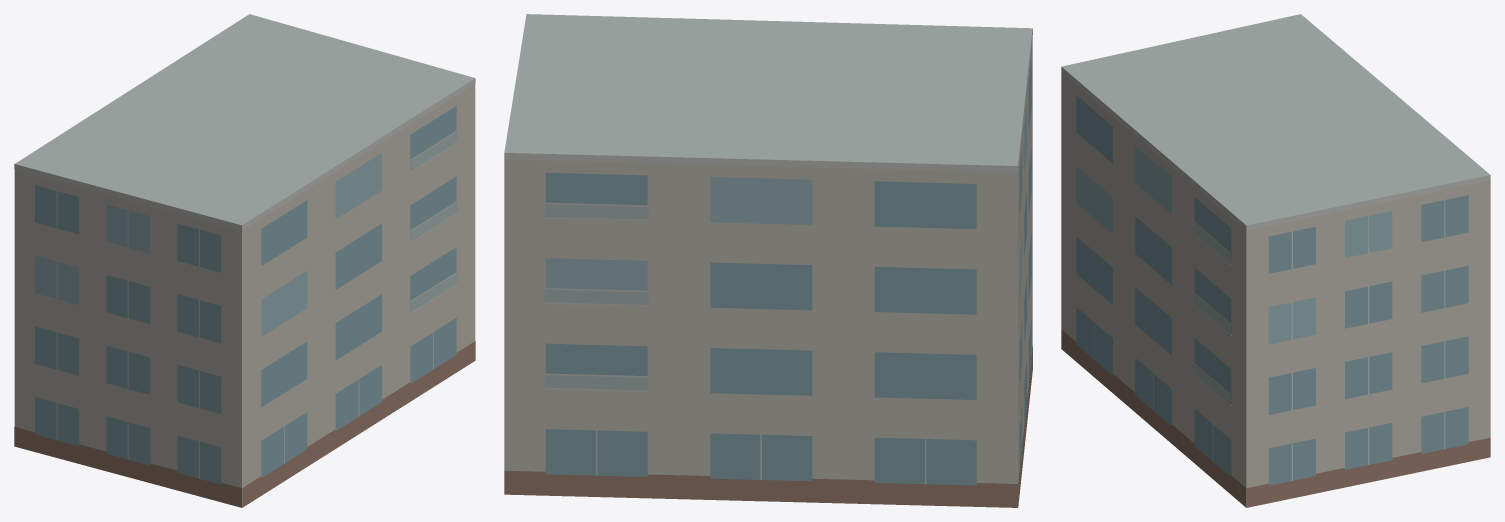
The model's file is survey-upis-32959519.glb.
The picture shows the model from 3 angles, left to right: view 1: azimuth 30°, elevation 25°; view 2: azimuth 150°, elevation 25°; view 3: azimuth 270°, elevation 25°; orthographic projection. The views are drawn at different scales.
Parts seen in each view (by area): view 1: survey-upis-32959519.tmp; view 2: survey-upis-32959519.tmp; view 3: survey-upis-32959519.tmp.
Boxes of the visible parts, x1=… form: survey-upis-32959519.tmp: x1=14, y1=14, x2=475, y2=507; survey-upis-32959519.tmp: x1=504, y1=14, x2=1032, y2=507; survey-upis-32959519.tmp: x1=1061, y1=14, x2=1490, y2=507.
Bounding box in the file's own units: 20.73 × 12.9 × 17.78.
